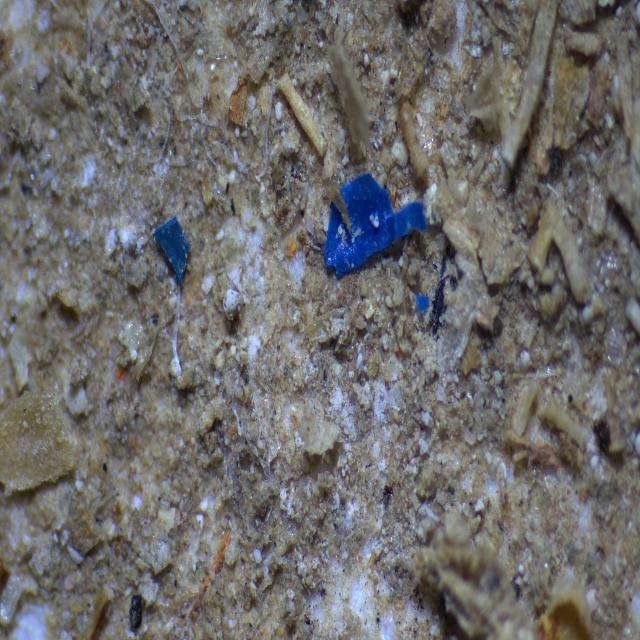microplastic: (315, 161, 433, 290), (151, 201, 203, 291), (400, 283, 447, 331)
